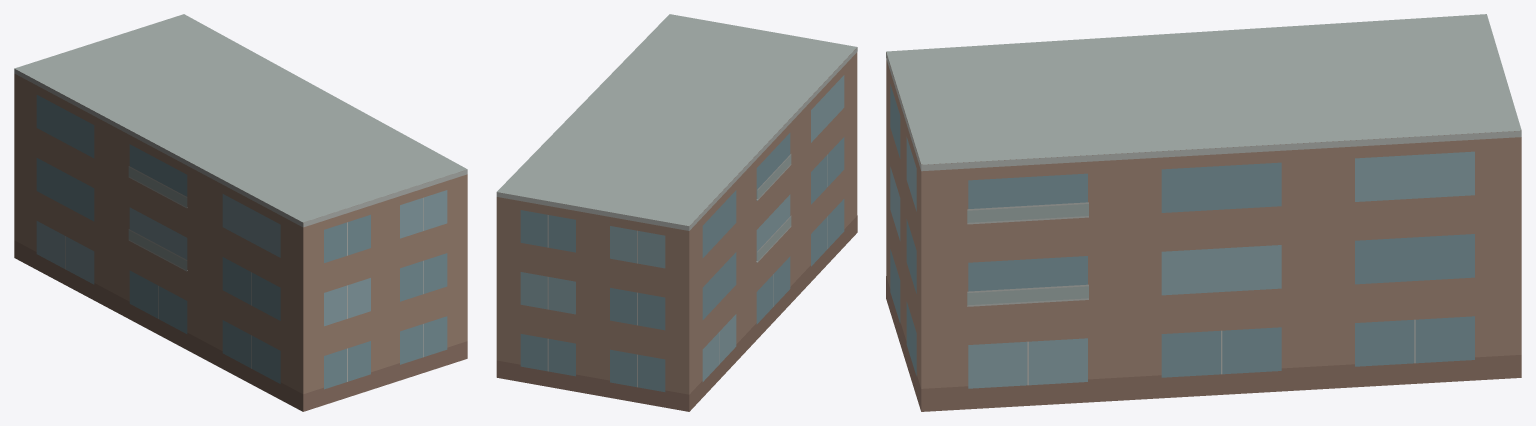
Rendered from survey-upis-32833534.glb.
The picture shows the model from 3 angles, left to right: view 1: azimuth 30°, elevation 25°; view 2: azimuth 150°, elevation 25°; view 3: azimuth 270°, elevation 25°; orthographic projection. The views are drawn at different scales.
Visible parts, largest first — view 1: survey-upis-32833534.tmp; view 2: survey-upis-32833534.tmp; view 3: survey-upis-32833534.tmp.
Part boxes in pixels (x1,y1,x2,y2): survey-upis-32833534.tmp: [14, 14, 467, 411]; survey-upis-32833534.tmp: [496, 14, 857, 411]; survey-upis-32833534.tmp: [886, 14, 1521, 411].
Bounding box in the file's own units: 12.31 × 9.4 × 21.93.
